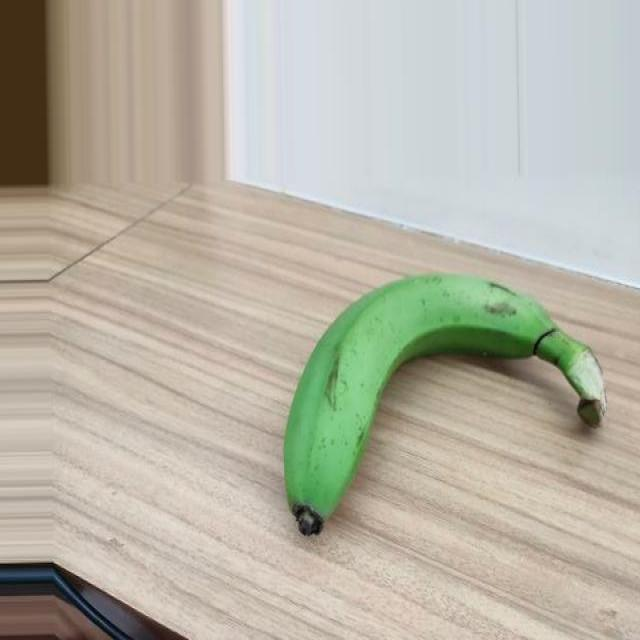Unripe: (284, 268, 608, 539)
